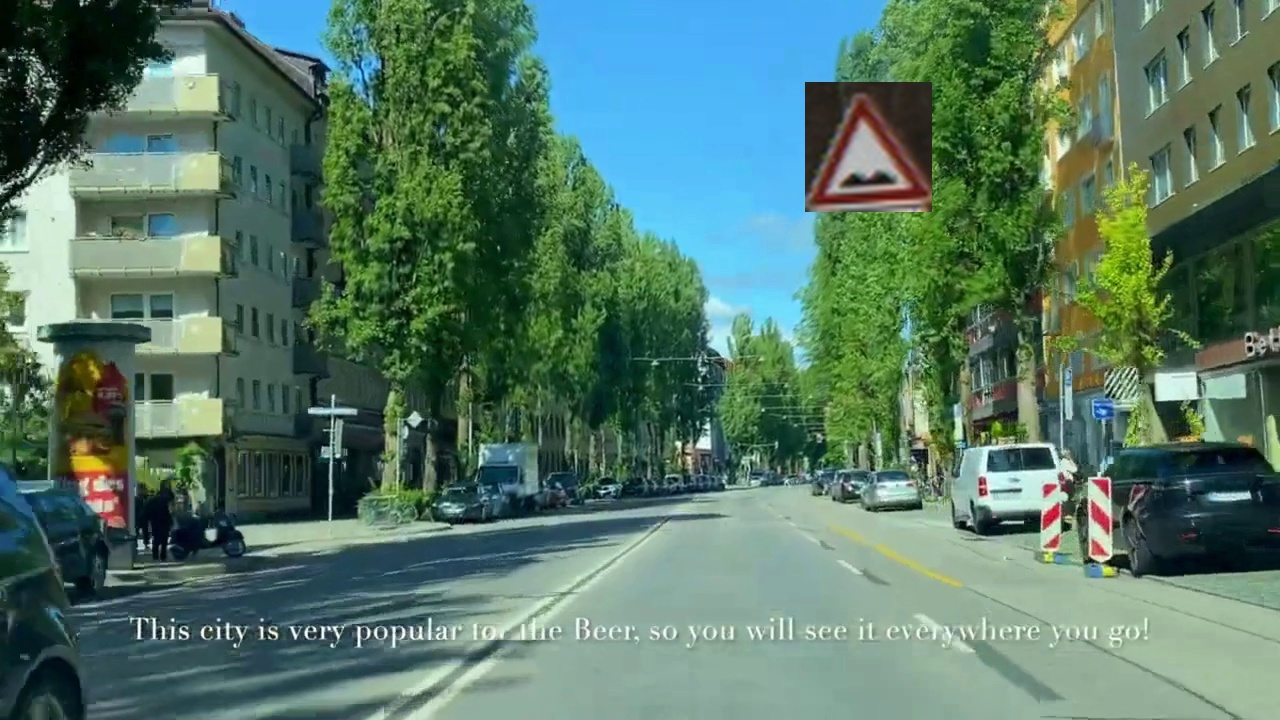Bumpy road: (805, 82, 932, 212)
